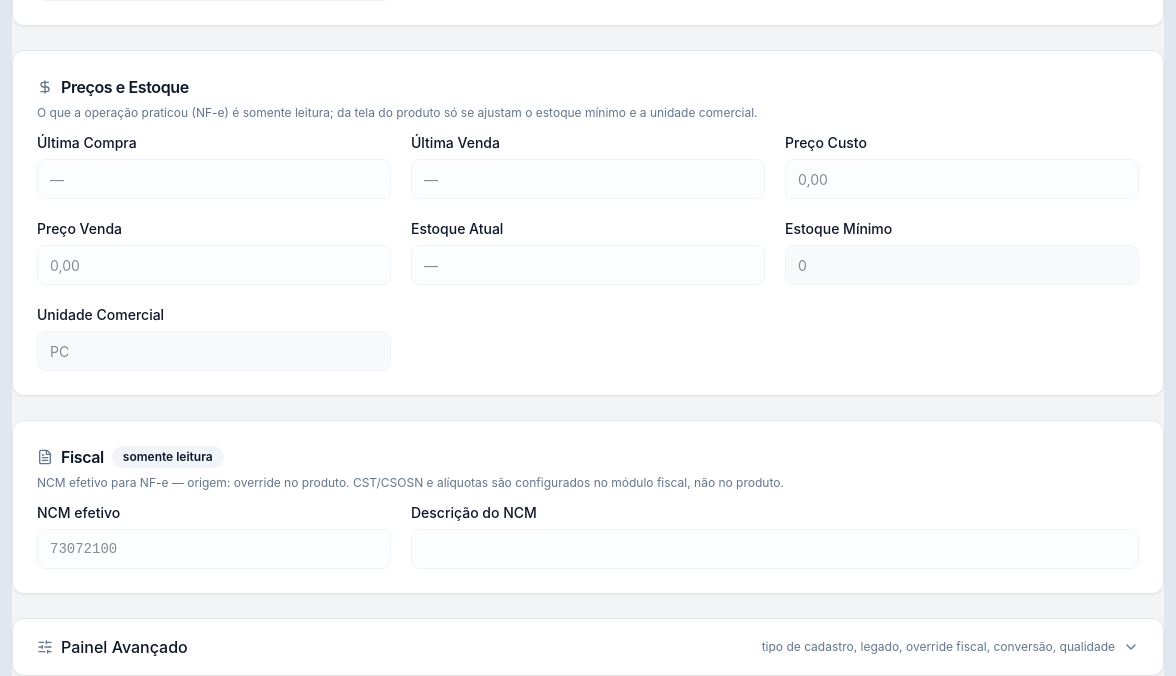
Test case: ProdutoWorkspace (espelho da Edição — Sprint 3.7) › abre o Painel Avançado e mostra os blocos avançados
The width and height of the screenshot is (1176, 676).
(page scrolled)
Click the button "Painel Avançado" at (124, 647), box [13, 619, 1163, 675]
(page scrolled)
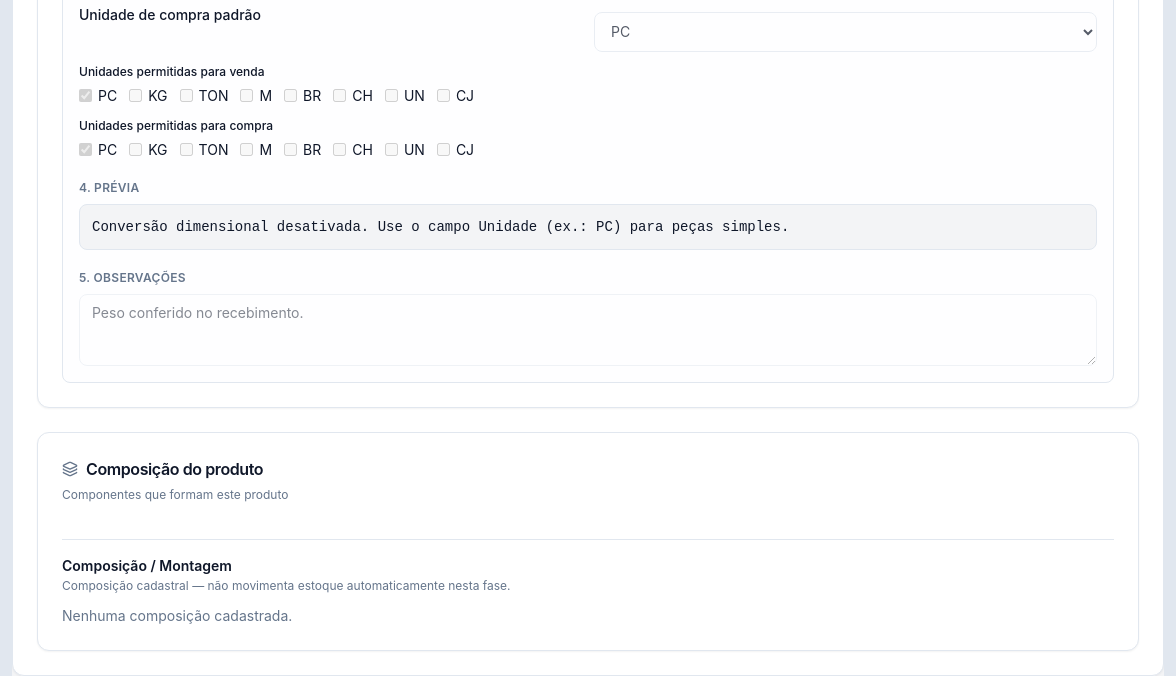
Expected: the text "Composição do produto" is shown, [86, 456, 263, 480]
Expected: the text "qualidade" is gone
